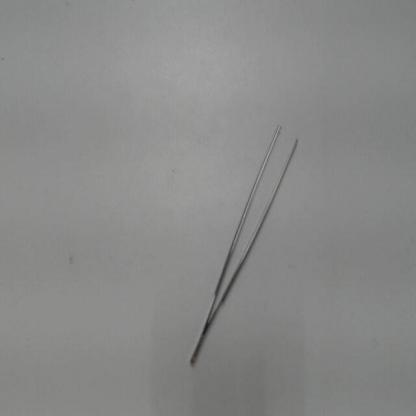Gillies Toothed Dissector: (183, 110, 313, 374)
